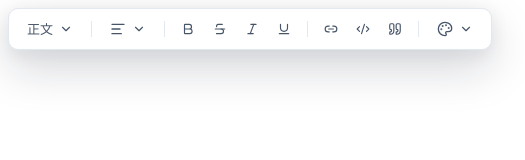
DefaultBubbleMenu UI › renders the link editor as an inline second row under the bubble menu
Click the button named "链接". click: (331, 29)
box: [316,15,346,43]
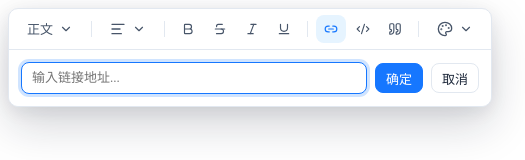
Check: the element showing "确定 取消" is shown, box [9,49,491,106]
